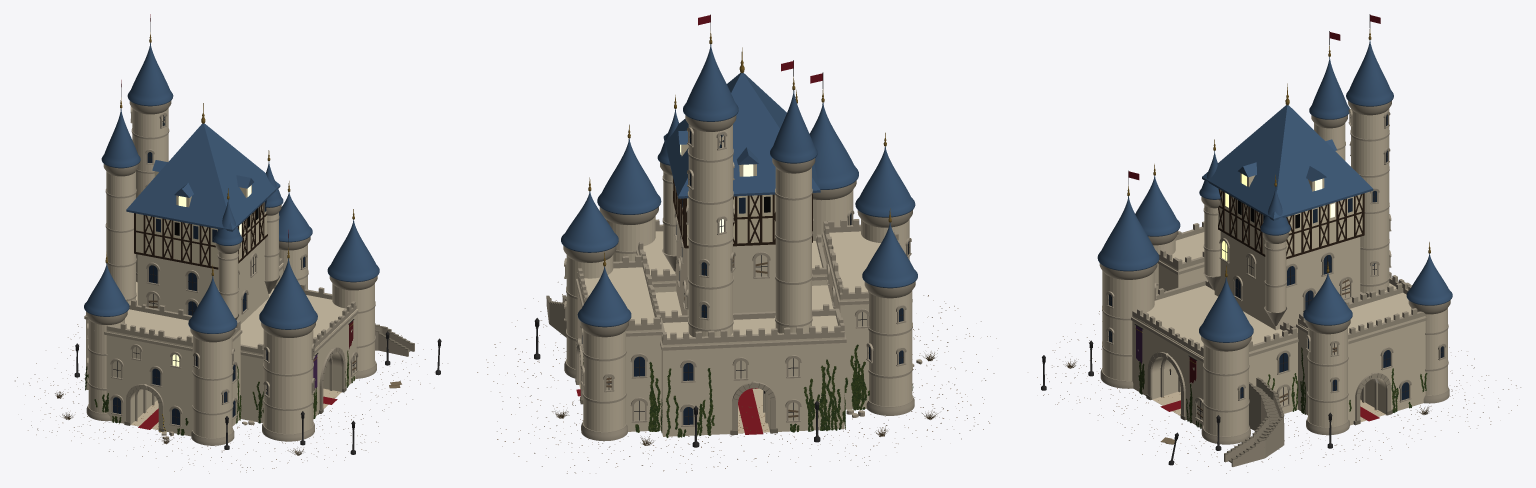
3 renders of one model, left to right at view 1: azimuth 30°, elevation 25°; view 2: azimuth 150°, elevation 25°; view 3: azimuth 270°, elevation 25°, orthographic. The views are drawn at different scales.
Visible parts, largest first — view 1: MI19_Static_C19_plaster, MI19_Static_C19_roof, MI19_Static_C19_stone, MI19_Static_C19_timberwall, MI19_Static_C19_timber, MI19_Static_C19_glass, MI19_Static_C19_iron, MI19_Static_C19_ivy2, MI19_Static_C19_ivy; view 2: MI19_Static_C19_plaster, MI19_Static_C19_roof, MI19_Static_C19_stone, MI19_Static_C19_ivy2, MI19_Static_C19_ivy, MI19_Static_C19_timberwall, MI19_Static_C19_timber, MI19_Static_C19_glass, MI19_Static_C19_iron, MI19_Static_C19_carpet; view 3: MI19_Static_C19_plaster, MI19_Static_C19_roof, MI19_Static_C19_stone, MI19_Static_C19_timberwall, MI19_Static_C19_timber, MI19_Static_C19_glass, MI19_Static_C19_stonedark, MI19_Static_C19_iron, MI19_Static_C19_ivy2, MI19_Static_C19_ivy.
Boxes of the visible parts, x1,y1,x2,y2 form: MI19_Static_C19_plaster: [86, 108, 374, 438]; MI19_Static_C19_roof: [84, 43, 379, 333]; MI19_Static_C19_stone: [84, 101, 414, 445]; MI19_Static_C19_timberwall: [136, 171, 267, 267]; MI19_Static_C19_timber: [134, 202, 267, 269]; MI19_Static_C19_glass: [113, 152, 304, 425]; MI19_Static_C19_iron: [74, 18, 441, 454]; MI19_Static_C19_ivy2: [85, 350, 355, 435]; MI19_Static_C19_ivy: [85, 351, 354, 435]; MI19_Static_C19_plaster: [566, 124, 912, 436]; MI19_Static_C19_roof: [561, 44, 917, 327]; MI19_Static_C19_stone: [546, 115, 915, 441]; MI19_Static_C19_ivy2: [583, 346, 913, 437]; MI19_Static_C19_ivy: [583, 344, 869, 437]; MI19_Static_C19_timberwall: [675, 144, 775, 245]; MI19_Static_C19_timber: [673, 178, 812, 248]; MI19_Static_C19_glass: [582, 131, 908, 424]; MI19_Static_C19_iron: [534, 14, 909, 447]; MI19_Static_C19_carpet: [576, 388, 763, 434]; MI19_Static_C19_plaster: [1102, 108, 1447, 436]; MI19_Static_C19_roof: [1097, 40, 1452, 342]; MI19_Static_C19_stone: [1099, 101, 1450, 466]; MI19_Static_C19_timberwall: [1218, 173, 1362, 256]; MI19_Static_C19_timber: [1218, 189, 1364, 259]; MI19_Static_C19_glass: [1109, 114, 1443, 400]; MI19_Static_C19_stonedark: [1146, 352, 1392, 461]; MI19_Static_C19_iron: [1041, 14, 1443, 465]; MI19_Static_C19_ivy2: [1138, 350, 1426, 428]; MI19_Static_C19_ivy: [1138, 347, 1427, 428].
Size of the model in its own units: 53.81 by 44.66 by 56.78.
